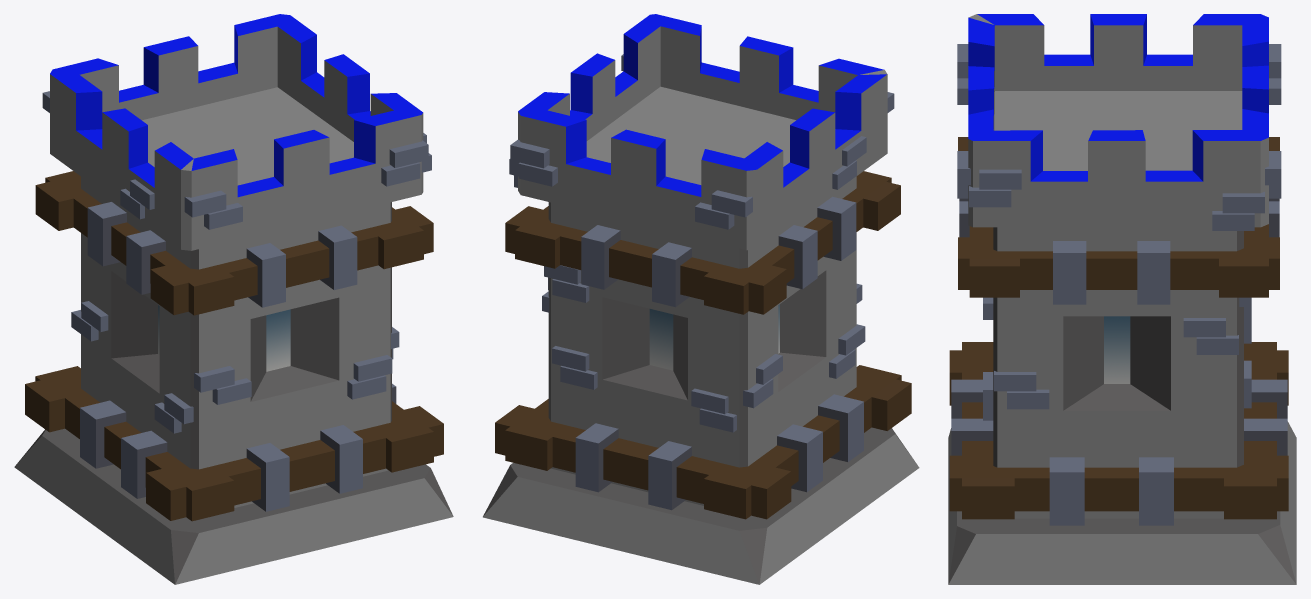
Rendered from Tower7.fbx.
The picture shows the model from 3 angles, left to right: view 1: azimuth 30°, elevation 25°; view 2: azimuth 150°, elevation 25°; view 3: azimuth 270°, elevation 25°; orthographic projection. The views are drawn at different scales.
Visible parts, largest first — view 1: Tower7; view 2: Tower7; view 3: Tower7.
Part boxes in pixels (x1,y1,x2,y2): Tower7: (14,14,453,584); Tower7: (483,14,919,584); Tower7: (948,14,1296,584).
Size of the model in its own units: 800 by 1100 by 800.
